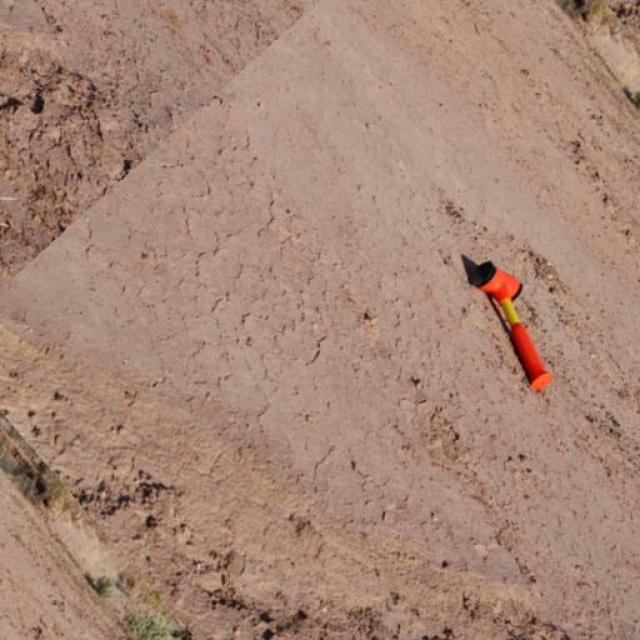mallet: (461, 251, 555, 394)
